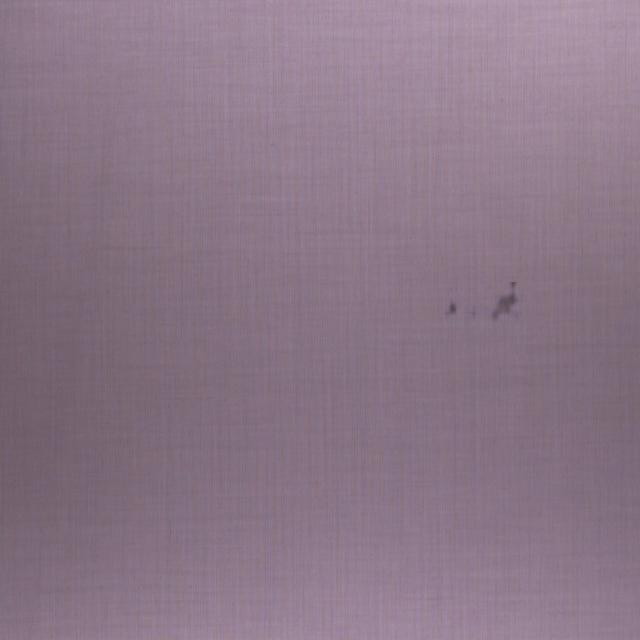dirty: (491, 282, 518, 323), (444, 302, 458, 318)
